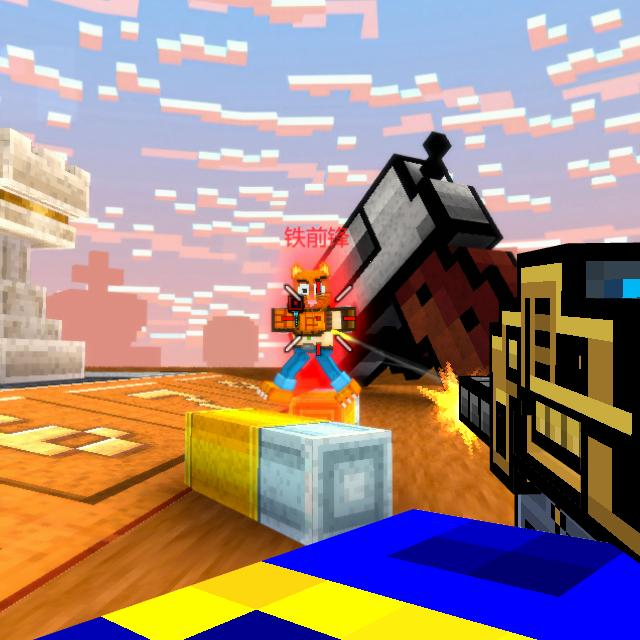Enemy: (256, 271, 362, 409)
